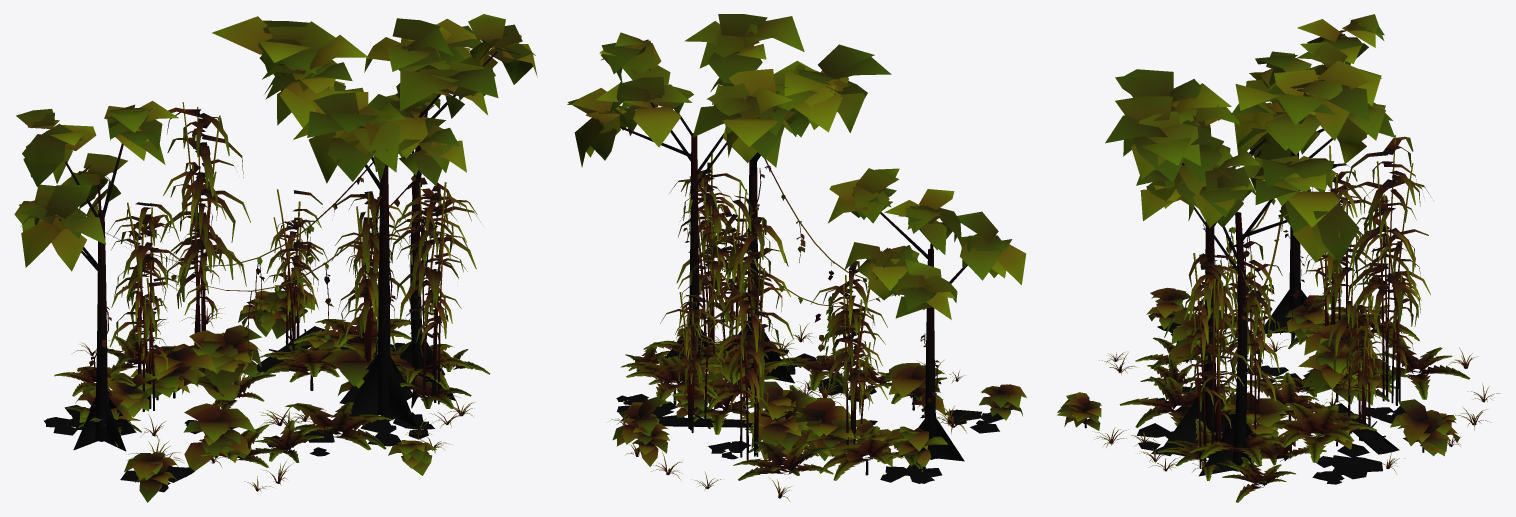
File: patch_grove.glb
The picture shows the model from 3 angles, left to right: view 1: azimuth 30°, elevation 25°; view 2: azimuth 150°, elevation 25°; view 3: azimuth 270°, elevation 25°; orthographic projection. The views are drawn at different scales.
Visible parts, largest first — view 1: patch_grove; view 2: patch_grove; view 3: patch_grove.
Part boxes in pixels (x1=…): patch_grove: x1=14, y1=14, x2=537, y2=502; patch_grove: x1=567, y1=14, x2=1026, y2=501; patch_grove: x1=1057, y1=14, x2=1500, y2=502.
Bounding box in the file's own units: 15.62 × 11.28 × 12.71.
Materials: 1 (1 with a texture image).
